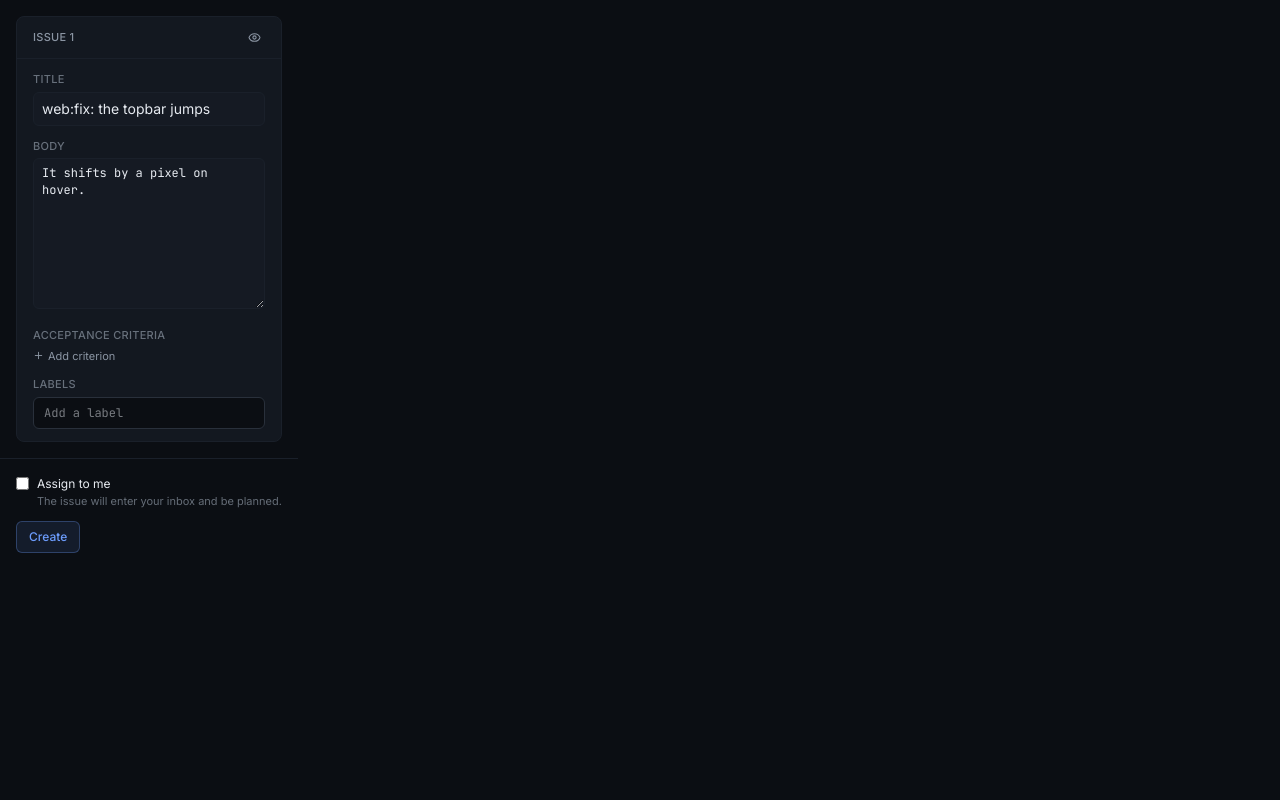
Test: DraftPane created refs › shows the tracker key when the result carries no number
Click the button "Create": [48, 537] box 16,521 -> 80,553
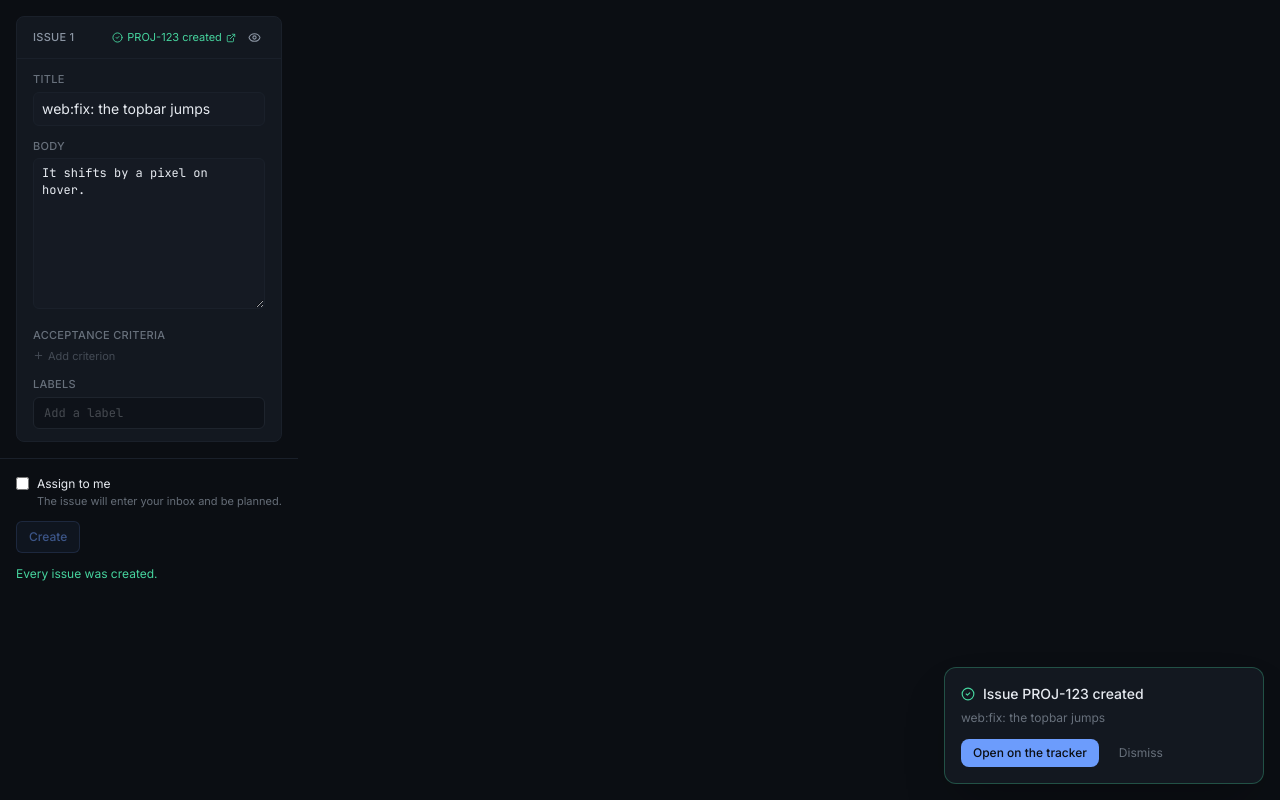
Check: the text "Issue PROJ-123 created" is shown, box 983,684 -> 1144,704
Check: the button "PROJ-123 created" is shown, box 112,29 -> 236,46
